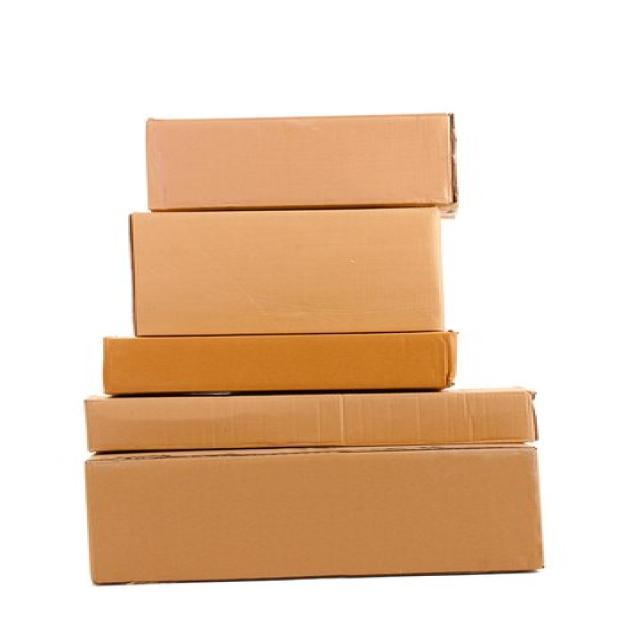BoxFace: (85, 448, 542, 585), (130, 208, 444, 337), (144, 114, 453, 212), (85, 391, 537, 455), (102, 332, 450, 397)
